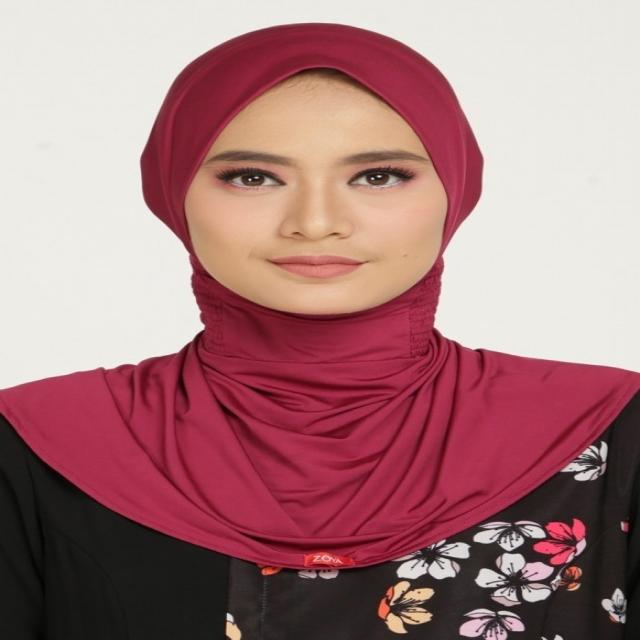head: (141, 16, 476, 332)
